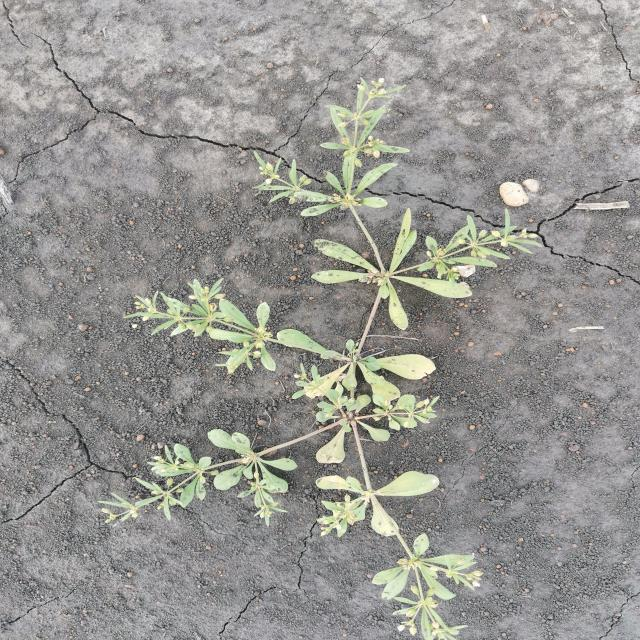Carpetweed: (89, 74, 546, 639)
